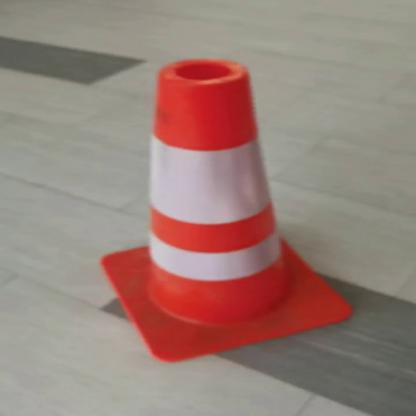cone: (97, 50, 372, 360)
